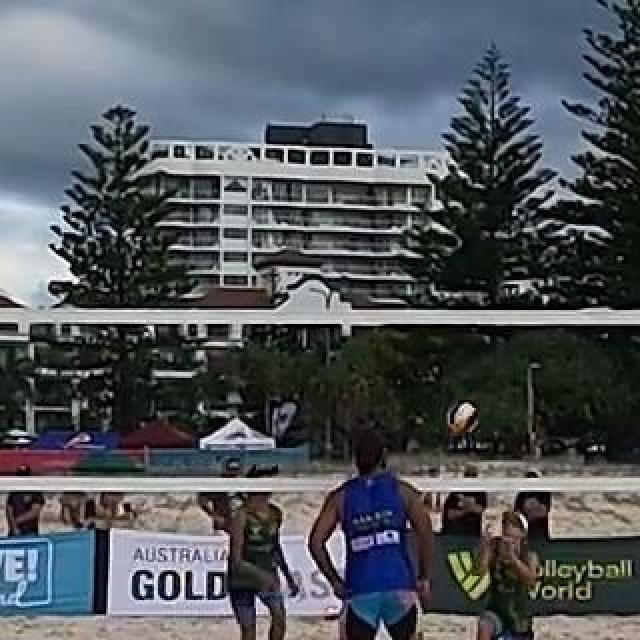volleyball: (446, 402, 480, 434)
